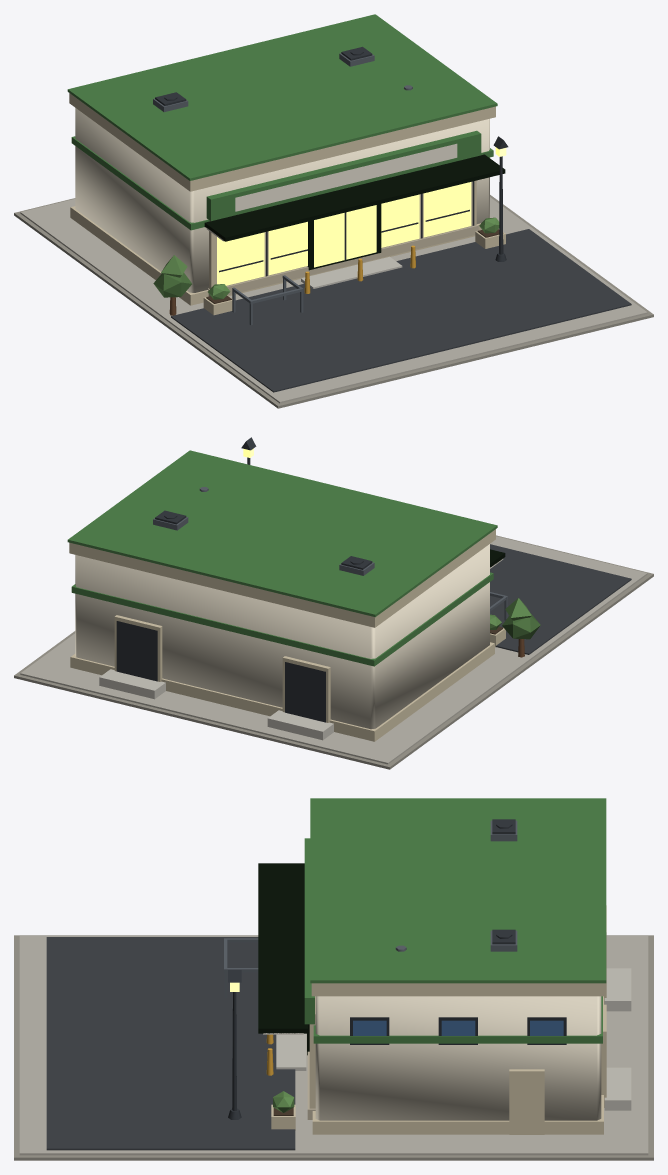
The model's file is freshfield-market.glb.
3 views of the same model, one above another, from view 1: azimuth 30°, elevation 25°; view 2: azimuth 150°, elevation 25°; view 3: azimuth 270°, elevation 25° (orthographic). The views are drawn at different scales.
Parts seen in each view (by area): view 1: Merged_market-brand, Merged_city-asphalt, Merged_market-wall, Merged_city-paving, Merged_city-lit-glass-surface, Merged_market-wall-shade, Merged_market-brand-deep, Merged_city-curb, Merged_market-sign-plate, Merged_market-trim, Merged_city-metal, Merged_city-paving-light (+5 smaller); view 2: Merged_market-brand, Merged_market-wall, Merged_city-paving, Merged_market-wall-shade, Merged_city-asphalt, Merged_city-metal-dark, Merged_city-curb, Merged_market-brand-surface, Merged_city-paving-light, Merged_city-metal, Merged_city-foliage-deep, Merged_city-foliage; view 3: Merged_market-brand, Merged_city-asphalt, Merged_market-wall, Merged_city-paving, Merged_market-wall-shade, Merged_market-brand-deep, Merged_city-curb, Merged_city-paving-light, Merged_market-brand-surface, Merged_city-metal-dark, Merged_city-glass-surface, Merged_city-metal (+1 smaller).
Part boxes in pixels (<box>): Merged_market-brand: <box>67,14,497,221</box>; Merged_city-asphalt: <box>171,229,631,392</box>; Merged_market-wall: <box>75,108,489,292</box>; Merged_city-paving: <box>20,197,647,403</box>; Merged_city-lit-glass-surface: <box>217,182,471,285</box>; Merged_market-wall-shade: <box>69,93,505,315</box>; Merged_market-brand-deep: <box>204,154,505,270</box>; Merged_city-curb: <box>14,195,653,408</box>; Merged_market-sign-plate: <box>206,143,457,241</box>; Merged_market-trim: <box>207,224,478,296</box>; Merged_city-metal: <box>153,53,412,325</box>; Merged_city-paving-light: <box>301,256,402,288</box>; Merged_market-brand: <box>67,450,497,617</box>; Merged_market-wall: <box>75,544,489,729</box>; Merged_city-paving: <box>20,536,647,764</box>; Merged_market-wall-shade: <box>69,529,505,741</box>; Merged_city-asphalt: <box>490,544,631,654</box>; Merged_city-metal-dark: <box>116,437,372,722</box>; Merged_city-curb: <box>14,535,653,769</box>; Merged_market-brand-surface: <box>71,572,493,666</box>; Merged_city-paving-light: <box>99,669,333,740</box>; Merged_city-metal: <box>153,487,507,620</box>; Merged_city-foliage-deep: <box>502,613,540,639</box>; Merged_city-foliage: <box>490,598,531,629</box>; Merged_market-brand: <box>304,798,606,1024</box>; Merged_city-asphalt: <box>46,937,295,1150</box>; Merged_market-wall: <box>315,996,601,1120</box>; Merged_city-paving: <box>19,936,648,1155</box>; Merged_market-wall-shade: <box>271,905,606,1134</box>; Merged_market-brand-deep: <box>258,863,309,1055</box>; Merged_city-curb: <box>14,935,653,1160</box>; Merged_city-paving-light: <box>276,968,631,1110</box>; Merged_market-brand-surface: <box>313,996,602,1043</box>; Merged_city-metal-dark: <box>228,819,515,1119</box>; Merged_city-glass-surface: <box>353,1020,563,1035</box>; Merged_city-metal: <box>224,820,517,997</box>.
Size of what is drawn, in the model's own units: 9.4 by 3.35 by 11.42.
